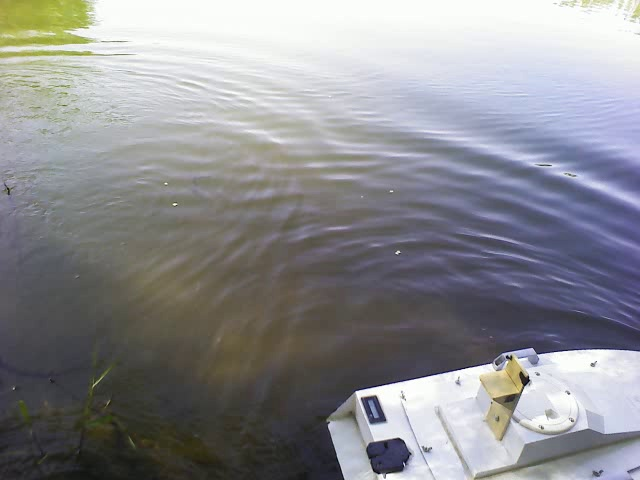boat: (320, 342, 636, 476)
